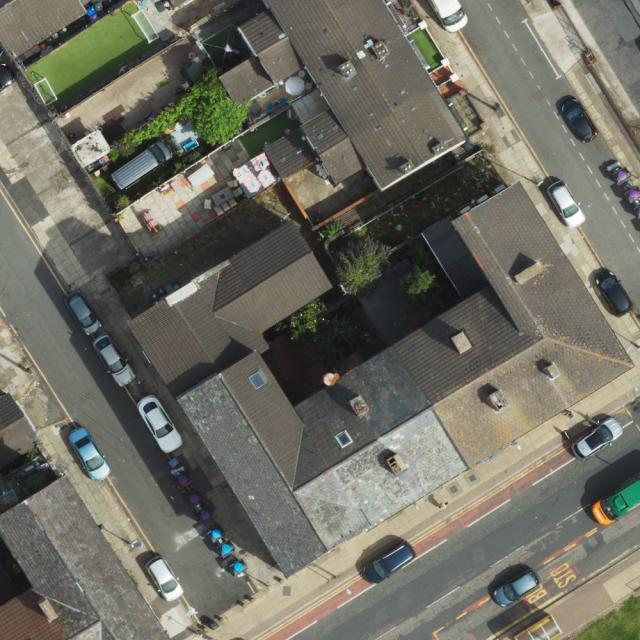roof: (124, 178, 637, 580), (236, 0, 469, 192), (0, 474, 171, 640), (0, 392, 40, 470)
skylight: (246, 368, 268, 392), (333, 429, 355, 452)
